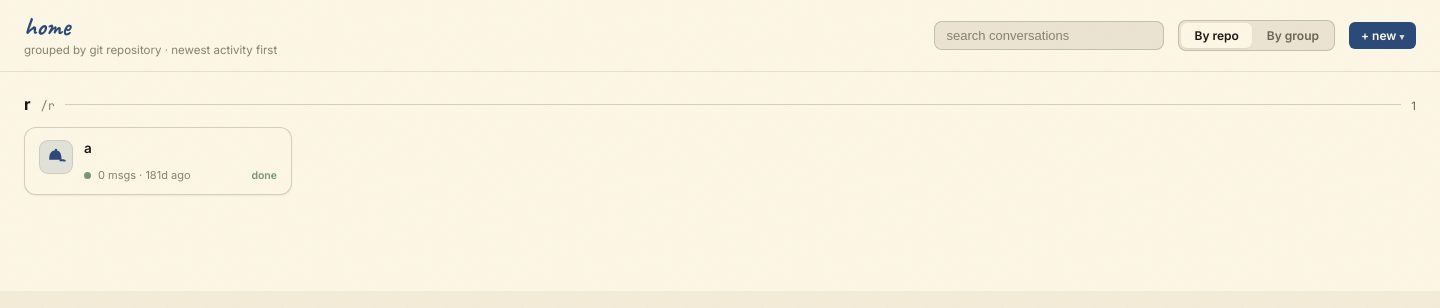
HomeBoard › toggles to the by-group view and persists the choice
Click the tab with class "ht-btn" showing "By group" at (1293, 36), box top-left (1254, 23), bottom-right (1332, 48)
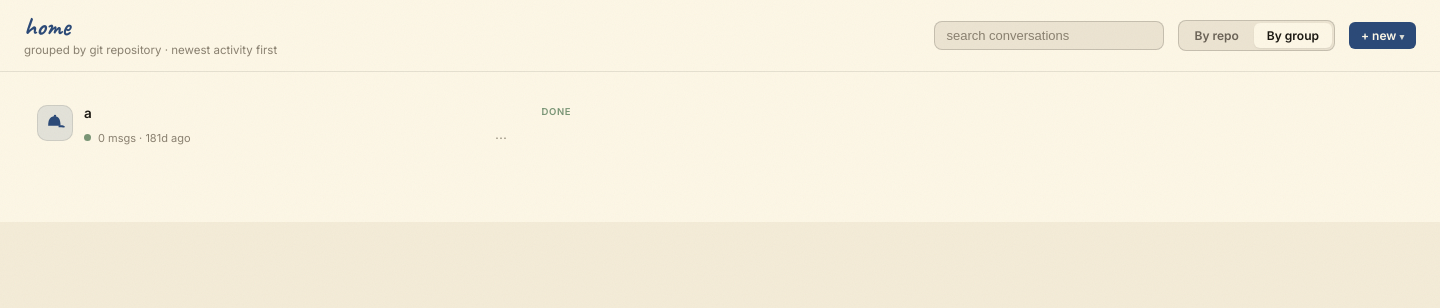
Expected: the element with class "home-groups" is shown, top-left (24, 94), bottom-right (584, 156)
